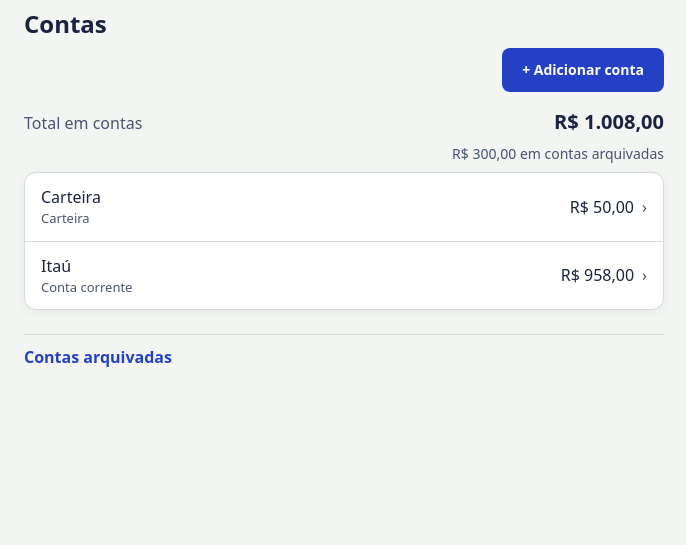
Test: archived accounts leave the total and can be unarchived
Expected: the text "R$ 300,00 em contas arquivadas" is shown, 452,144 -> 664,163
Click the heading "Contas arquivadas" at x=98, y=357, box 24,346 -> 172,368
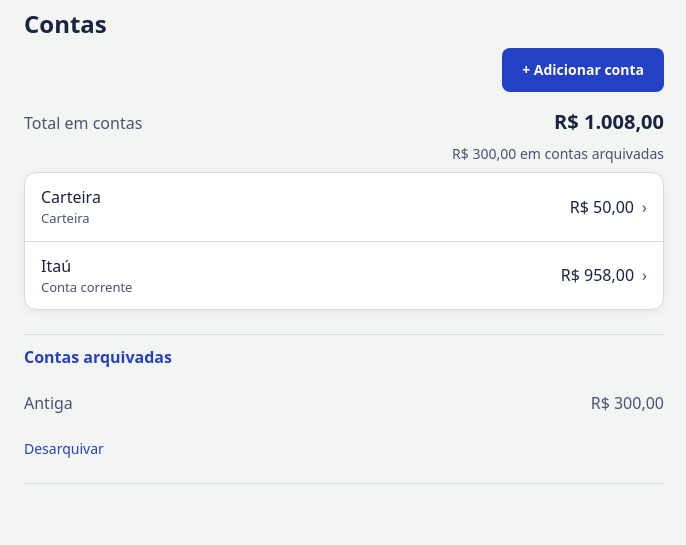
Now the text "Antiga" is shown, box 24,391 -> 73,415
Now the text "R$ 300,00" is shown, box 591,391 -> 664,415
Click the button with aria-label "Desarquivar Antiga" at x=64, y=449, box 16,427 -> 112,471
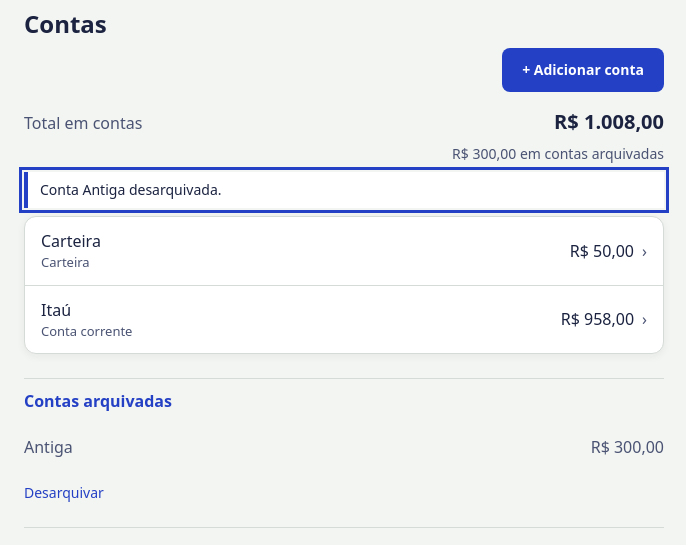
Now the message reads "Conta Antiga desarquivada.", box 40,180 -> 222,199
